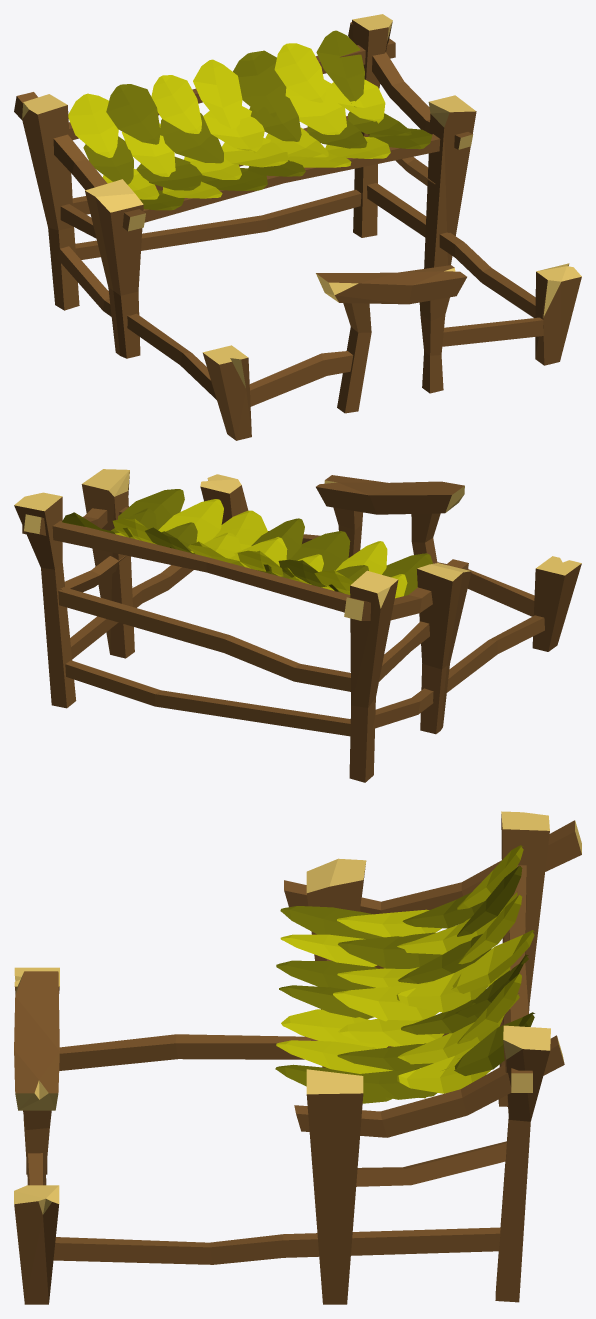
The picture shows the model from 3 angles, top to bottom: view 1: azimuth 30°, elevation 25°; view 2: azimuth 150°, elevation 25°; view 3: azimuth 270°, elevation 25°; orthographic projection. The views are drawn at different scales.
Parts seen in each view (by area): view 1: Cube.114; view 2: Cube.114; view 3: Cube.114.
Boxes of the visible parts, bbox=[...] form: Cube.114: bbox=[14, 14, 581, 440]; Cube.114: bbox=[14, 469, 581, 782]; Cube.114: bbox=[14, 811, 581, 1304].
Bounding box in the file's own units: 1531 × 814 × 1525.
